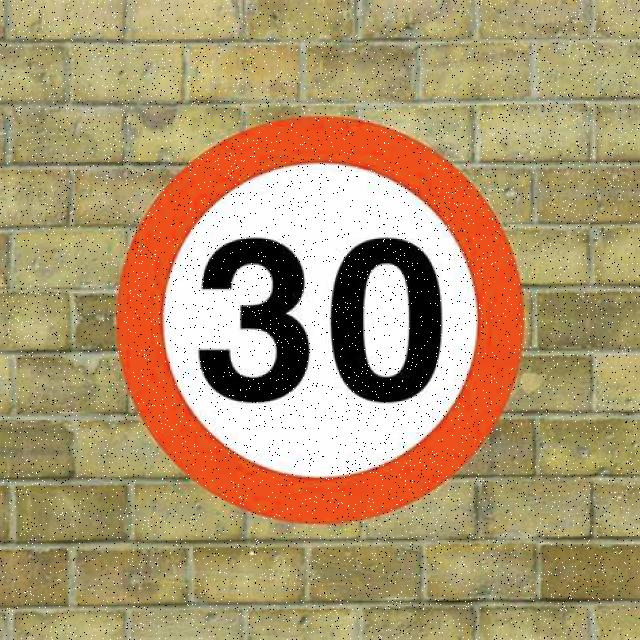speedlimit_30: (117, 115, 530, 526)
